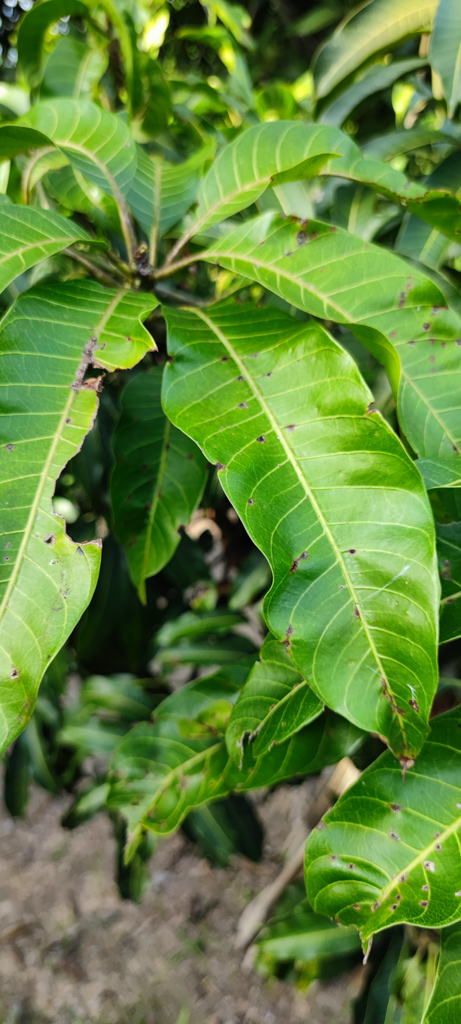Alternaria brassicicola: (186, 332, 424, 762), (255, 212, 451, 378), (313, 782, 455, 934)
